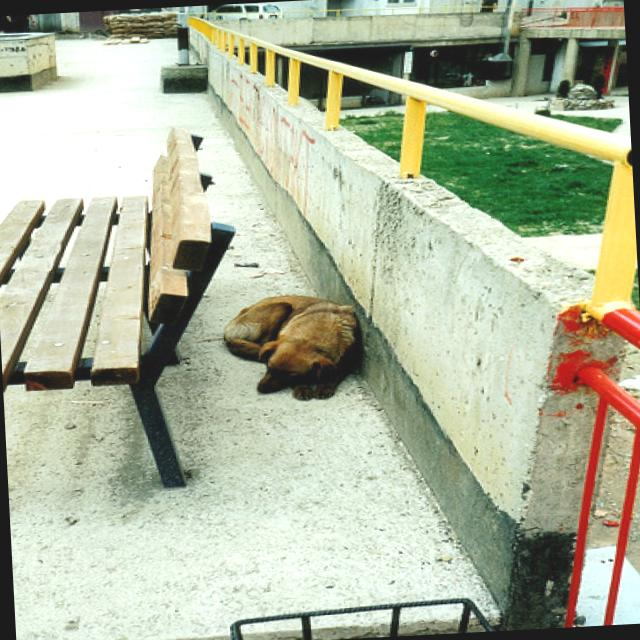Vehicle: (205, 1, 283, 22)
